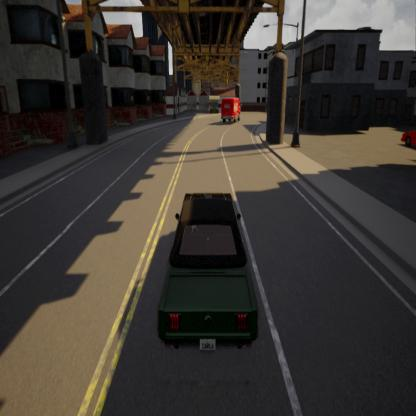Cars: (158, 194, 258, 349), (222, 96, 242, 122)
